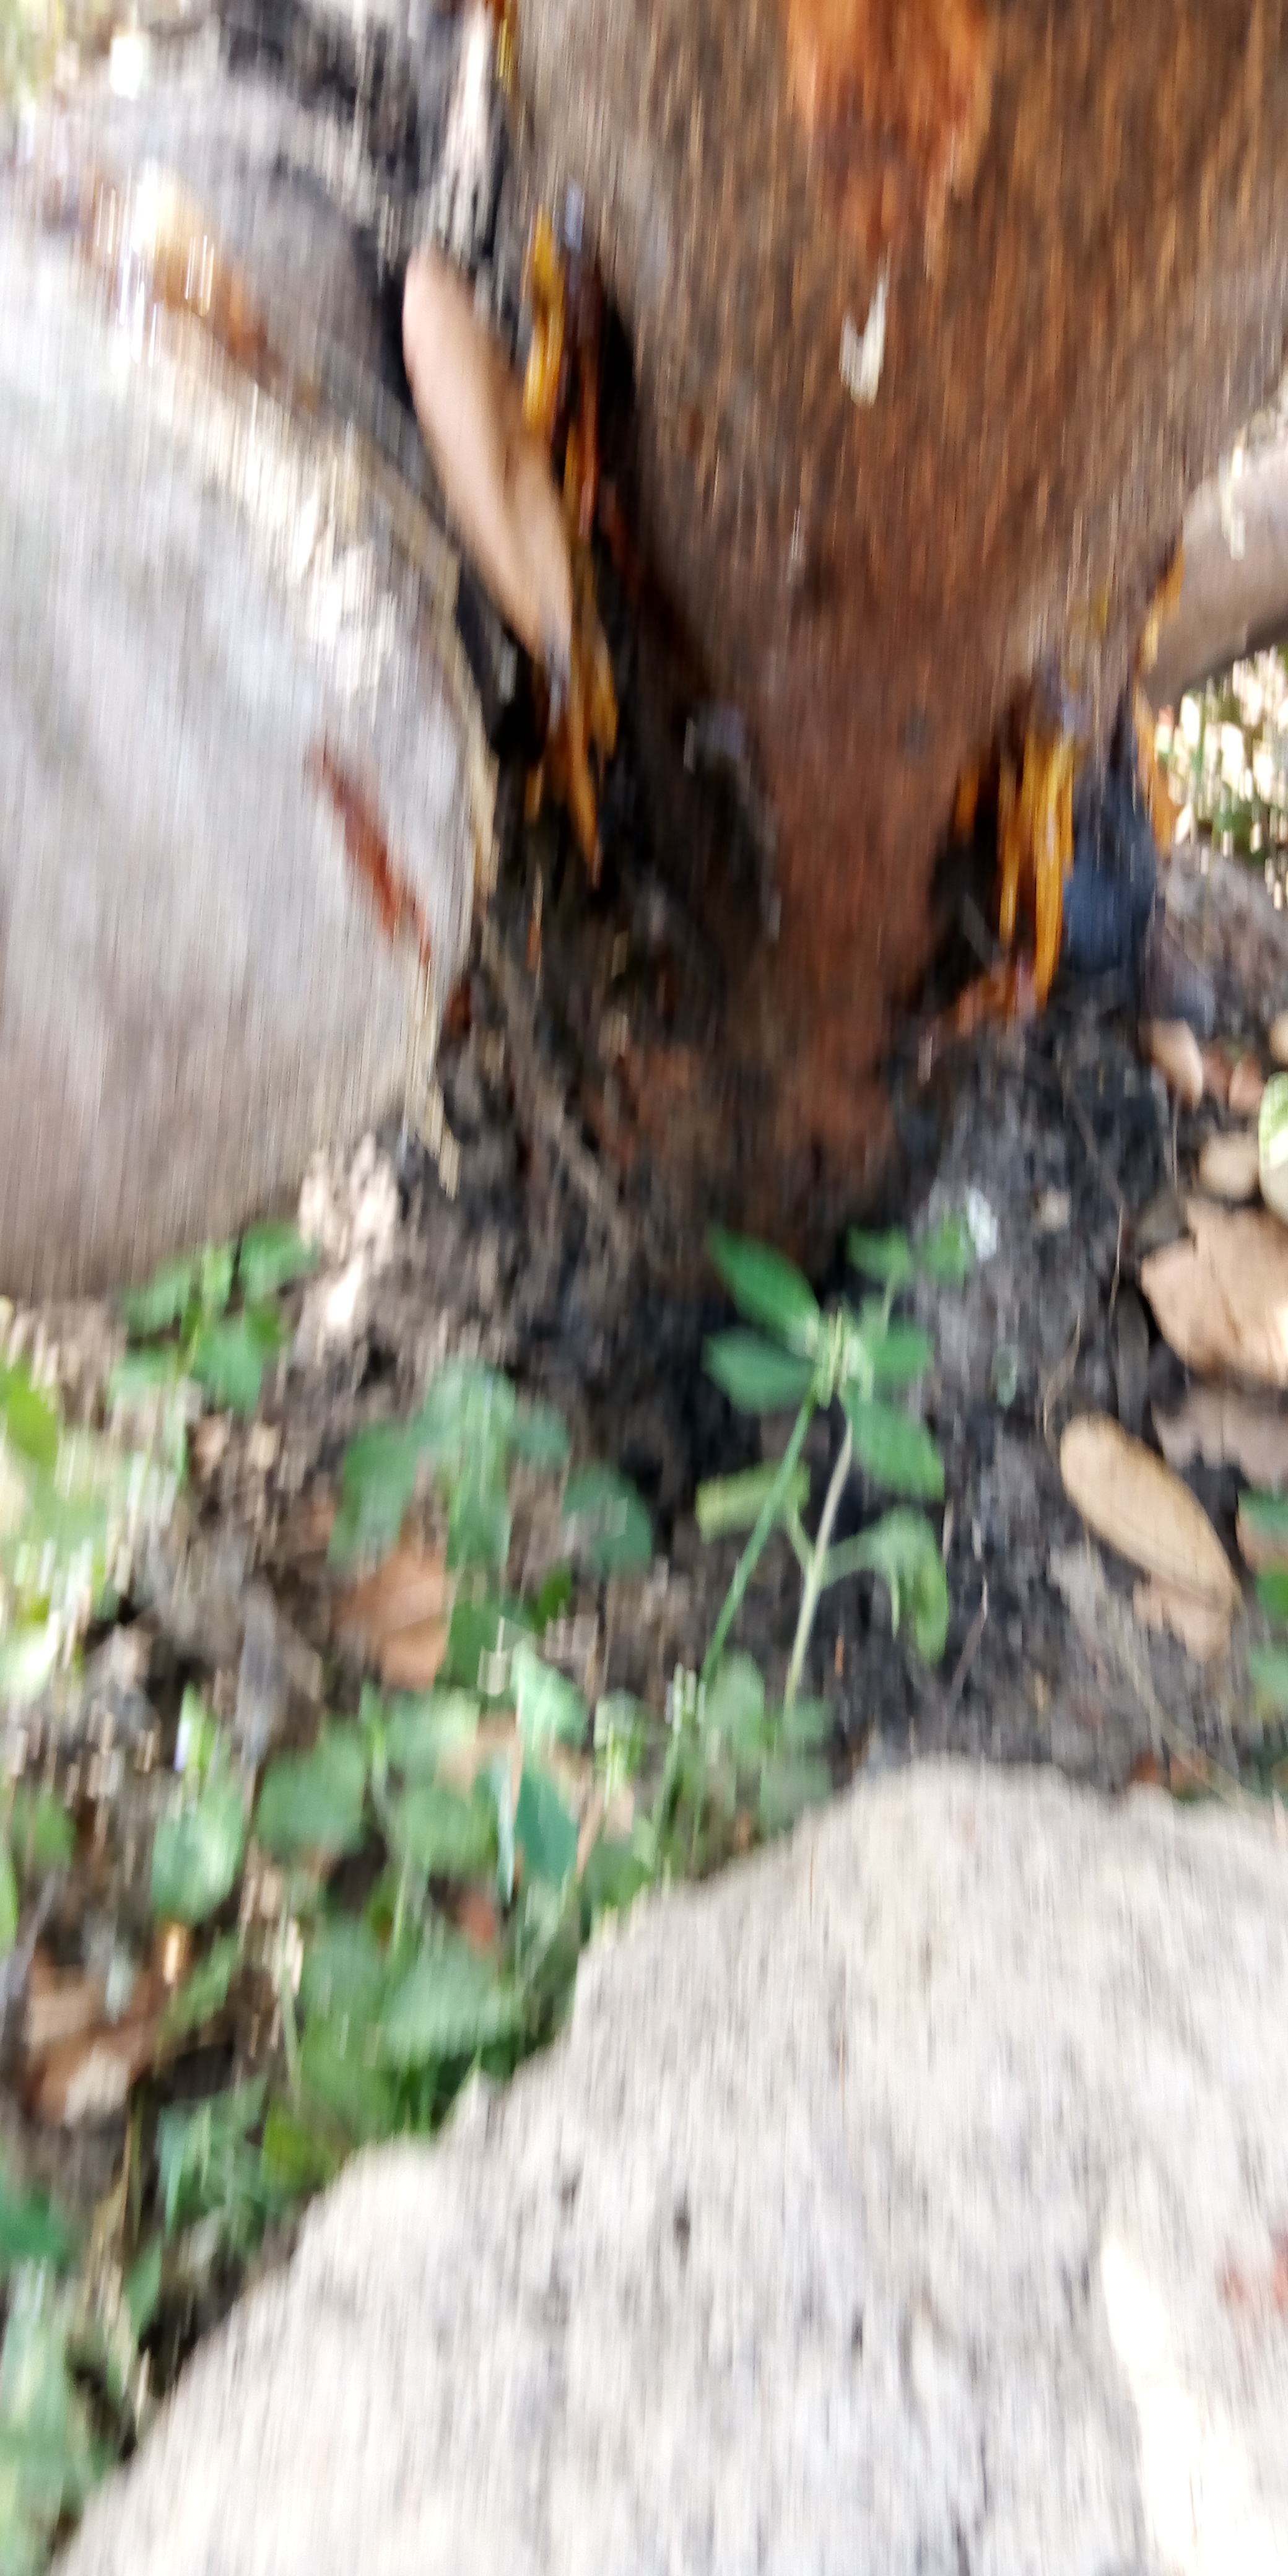Gommose: (789, 8, 1283, 554)
